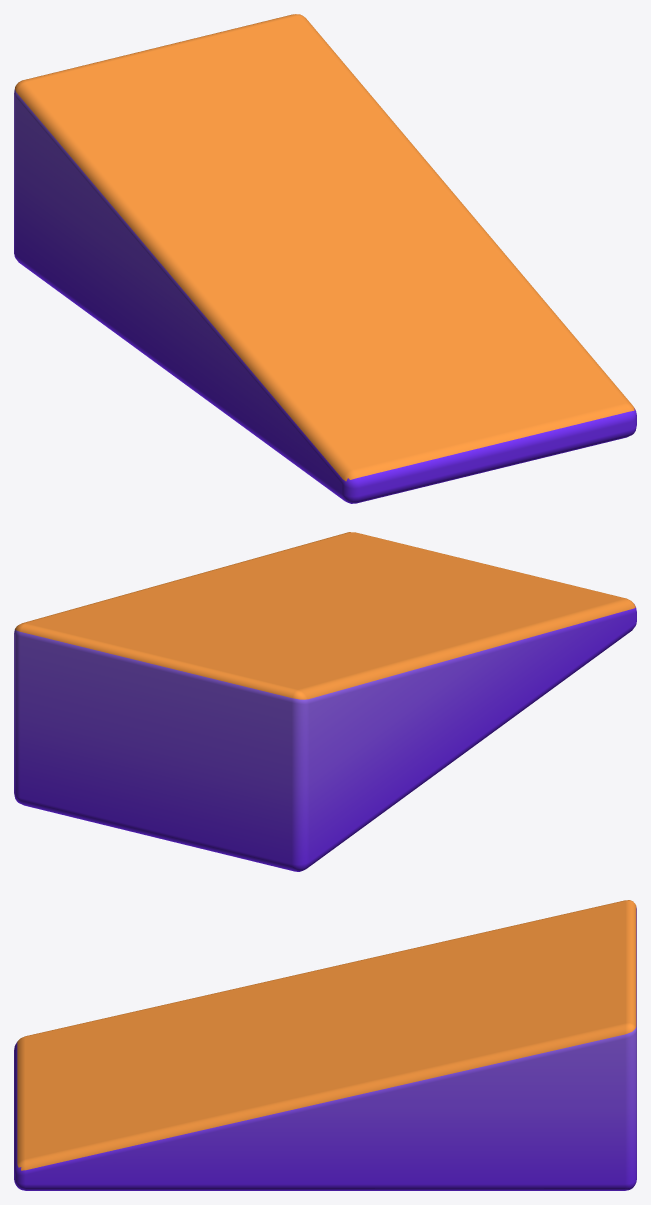
Rendered from ramp_4x8_rise2.glb.
3 views of the same model, one above another, from view 1: azimuth 30°, elevation 25°; view 2: azimuth 150°, elevation 25°; view 3: azimuth 270°, elevation 25° (orthographic). The views are drawn at different scales.
Parts seen in each view (by area): view 1: ramp_4x8_rise2; view 2: ramp_4x8_rise2; view 3: ramp_4x8_rise2.
Part boxes in pixels (bbox=[...]): ramp_4x8_rise2: bbox=[14, 14, 636, 503]; ramp_4x8_rise2: bbox=[14, 532, 636, 871]; ramp_4x8_rise2: bbox=[14, 900, 636, 1190].
Size of the model in its own units: 4 by 2.37 by 8.
1 material, 1 textured.
